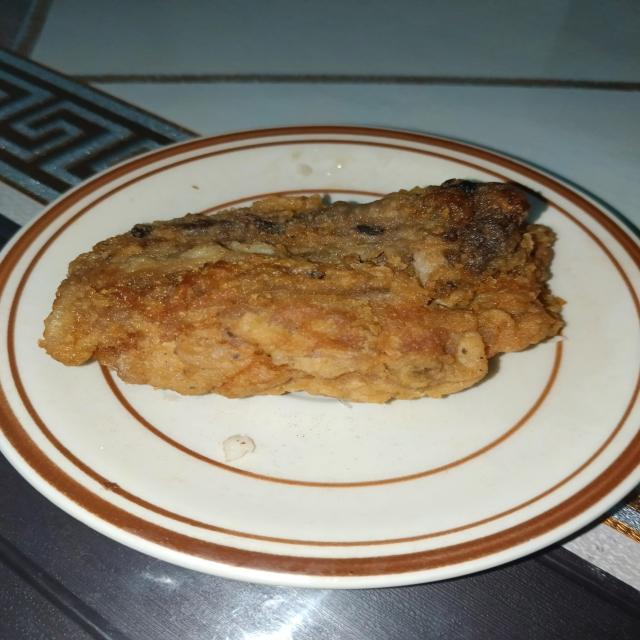Chicken -Fried Chicken-: (43, 154, 572, 453)
